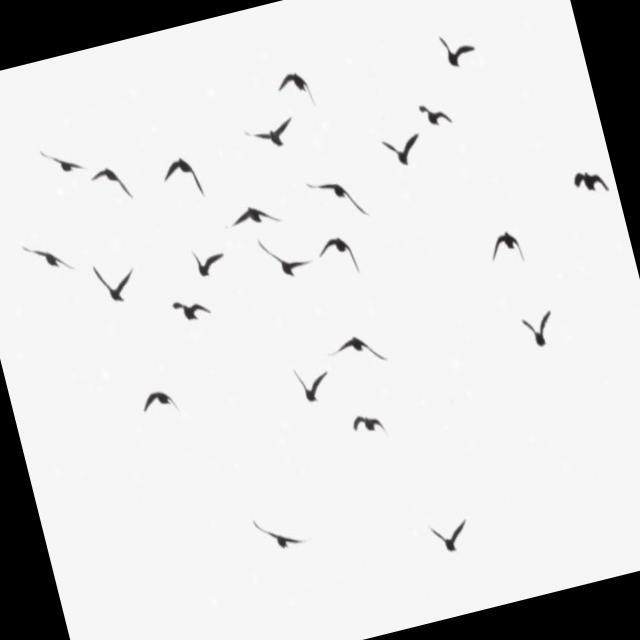bird: (302, 164, 372, 232), (252, 224, 318, 288), (250, 504, 316, 559), (17, 228, 78, 284), (323, 328, 391, 377), (88, 253, 141, 310), (156, 151, 208, 208), (237, 111, 301, 157), (312, 229, 363, 285), (422, 508, 475, 560), (220, 195, 283, 237), (86, 160, 136, 211), (36, 135, 89, 182), (289, 358, 336, 408), (272, 65, 317, 116), (377, 126, 426, 172), (435, 23, 480, 72), (517, 306, 560, 353), (485, 226, 527, 270), (136, 383, 182, 422), (168, 290, 214, 328), (187, 241, 229, 282), (346, 407, 389, 447), (416, 93, 456, 133), (569, 163, 611, 201)
